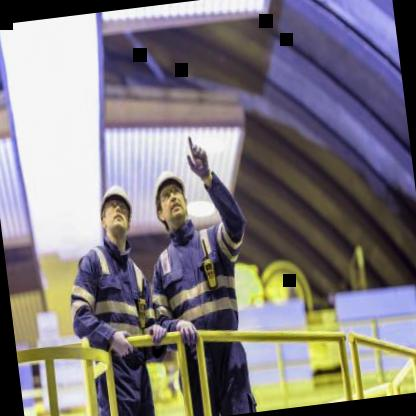helmet: (92, 176, 140, 252), (147, 164, 194, 237)
